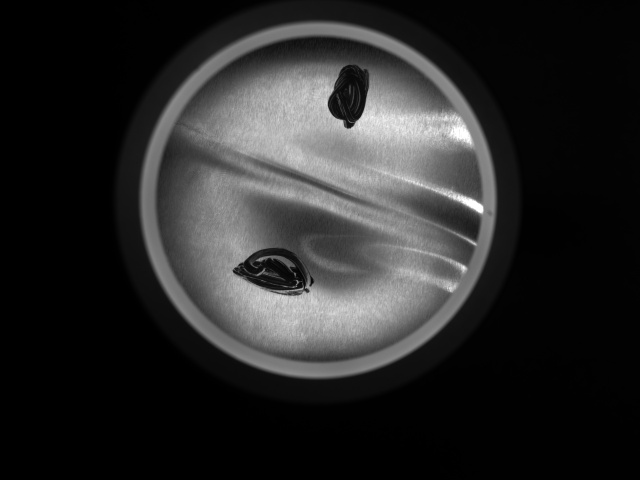zang_wu: (230, 245, 319, 295), (321, 62, 370, 132)
zhe_zhou: (193, 67, 445, 327)
